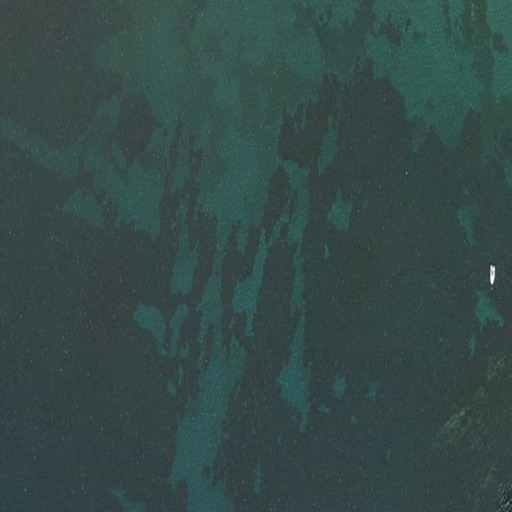ship: (489, 264, 496, 286)
